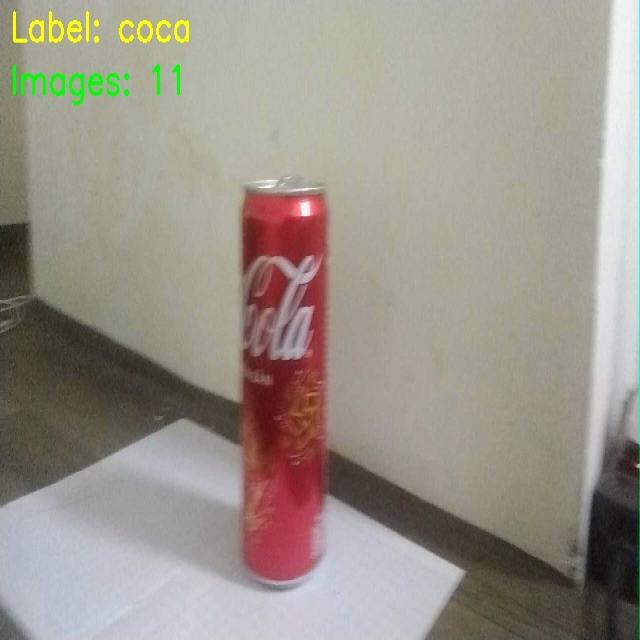Coca: (212, 143, 349, 593)
